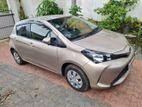car: (8, 15, 135, 92)
